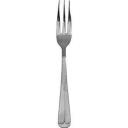Fork: (38, 1, 83, 128)
